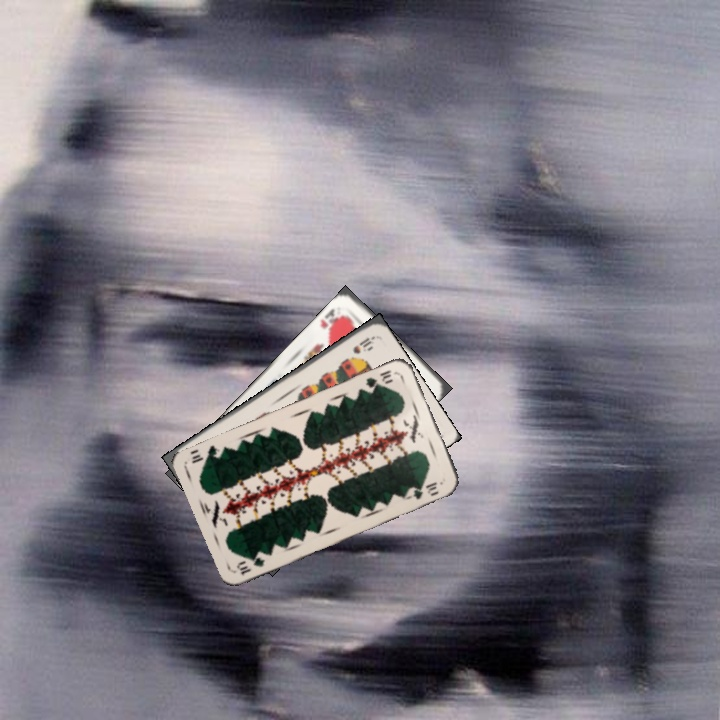G10: (361, 366, 396, 395), (232, 552, 267, 578)
HK: (316, 304, 347, 336)
S10: (349, 333, 376, 356)
